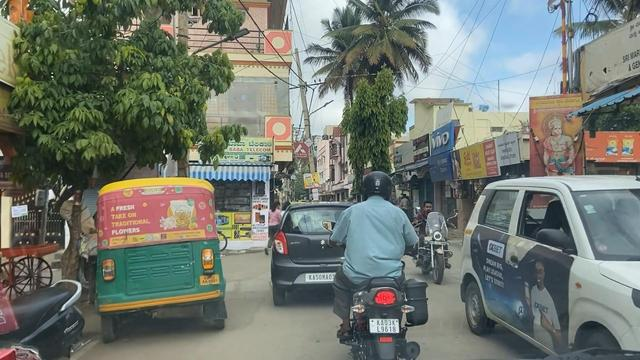LMV: (93, 181, 227, 328), (345, 174, 417, 360)
RoadDamages: (245, 283, 266, 334)
